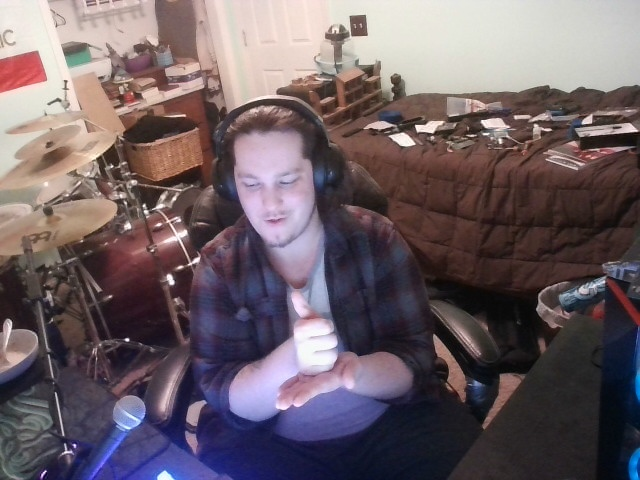help: (253, 278, 379, 425)
